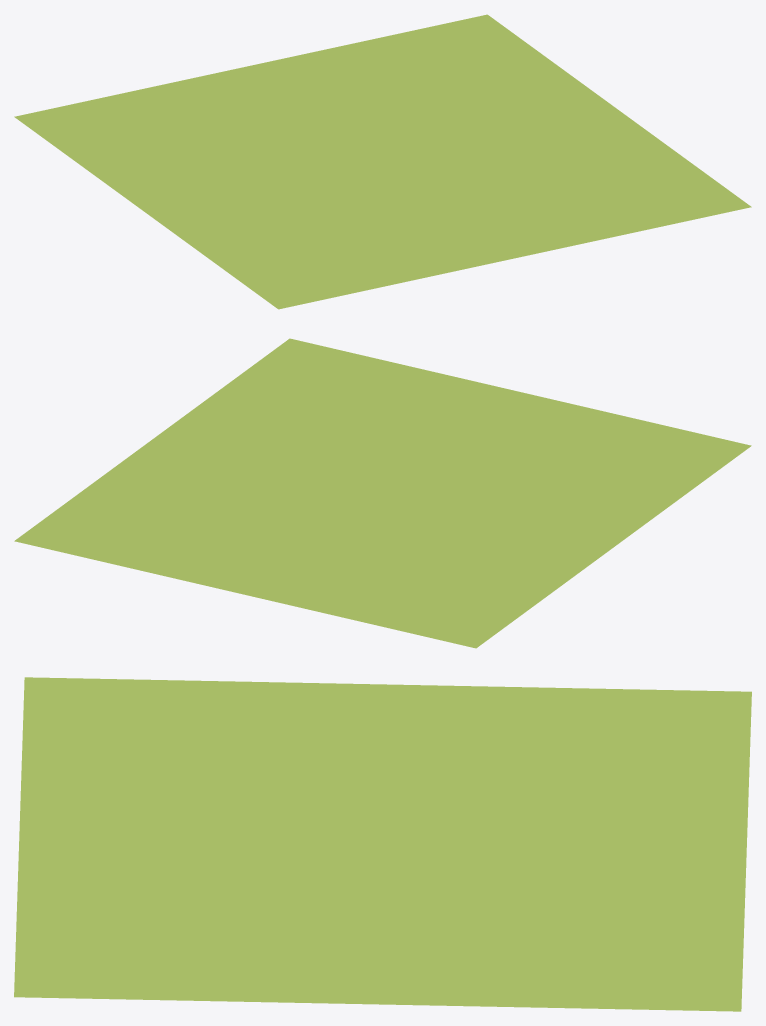
File: tile.fbx
3 views of the same model, one above another, from view 1: azimuth 30°, elevation 25°; view 2: azimuth 150°, elevation 25°; view 3: azimuth 270°, elevation 25° (orthographic). The views are drawn at different scales.
Parts seen in each view (by area): view 1: Plane; view 2: Plane; view 3: Plane.
Part boxes in pixels (x1,y1,x2,y2): Plane: (14, 14, 751, 309); Plane: (14, 338, 751, 648); Plane: (14, 677, 751, 1011).
Bounding box in the file's own units: 101 × 3.42 × 101.
